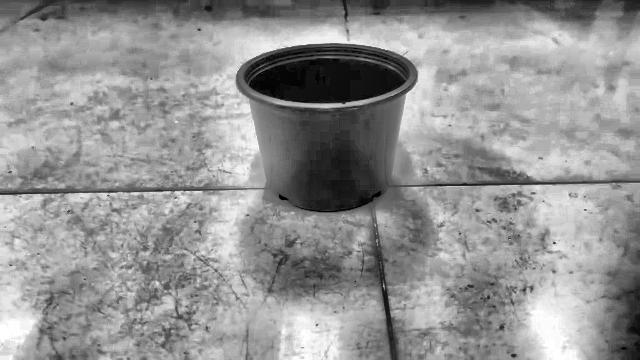pot: (236, 44, 417, 211)
